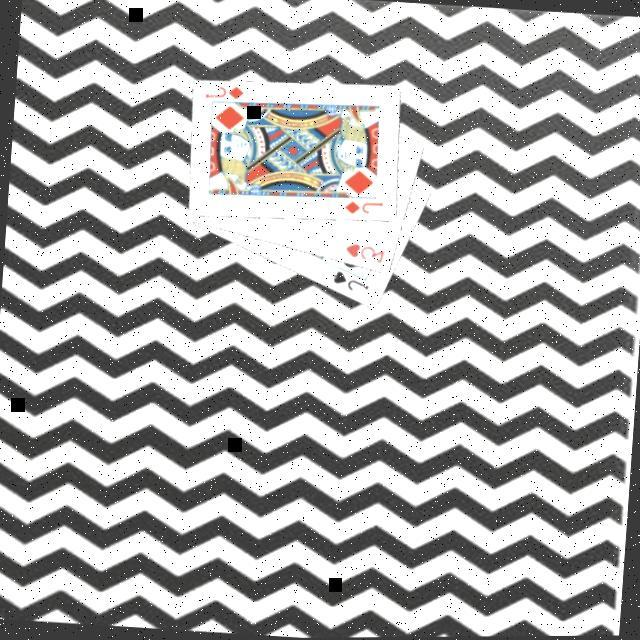3H: (342, 238, 390, 266)
JD: (342, 196, 387, 219), (204, 80, 249, 103)
JS: (330, 266, 374, 295)
